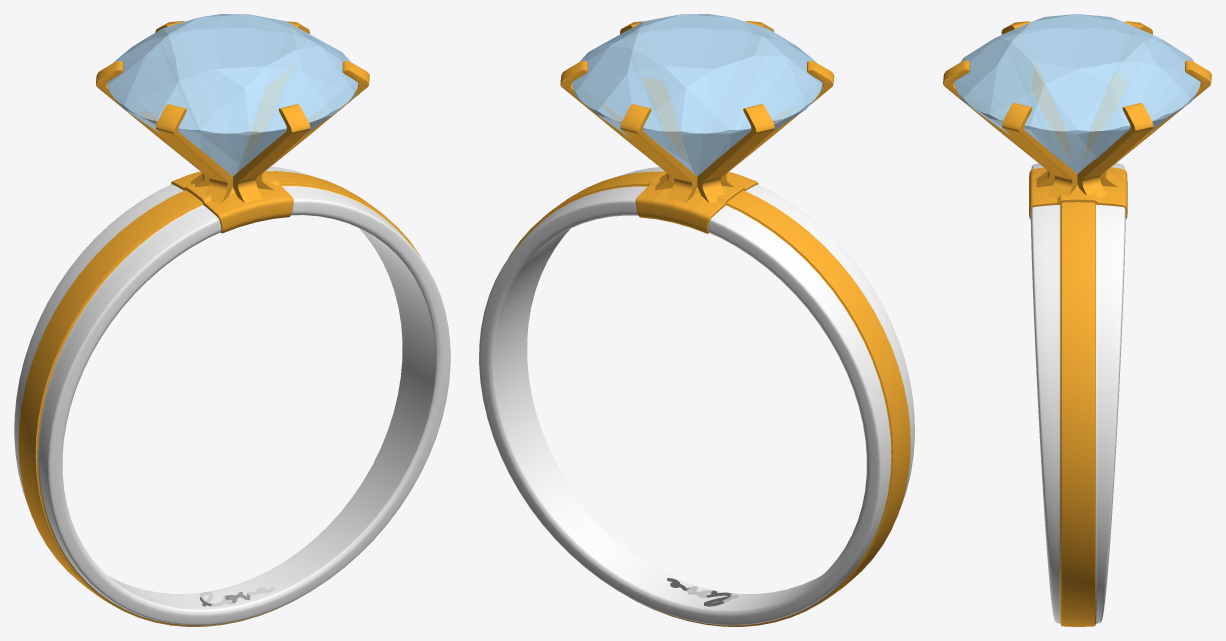
Rendered from diamond_ring.glb.
The picture shows the model from 3 angles, left to right: view 1: azimuth 30°, elevation 25°; view 2: azimuth 150°, elevation 25°; view 3: azimuth 270°, elevation 25°; orthographic projection.
Parts seen in each view (by area): view 1: Object_4, Object_5, Object_6; view 2: Object_4, Object_5, Object_6; view 3: Object_6, Object_5, Object_4.
Part boxes in pixels (left/top/right/bottom): Object_4: left=14, top=167, right=450, bottom=626; Object_5: left=107, top=14, right=358, bottom=176; Object_6: left=18, top=21, right=421, bottom=626; Object_4: left=479, top=167, right=914, bottom=626; Object_5: left=571, top=14, right=822, bottom=176; Object_6: left=508, top=21, right=910, bottom=626; Object_6: left=943, top=21, right=1211, bottom=626; Object_5: left=954, top=14, right=1200, bottom=173; Object_4: left=1030, top=163, right=1125, bottom=623.
Bounding box in the file's own units: 1.89 × 2.52 × 1.09.
